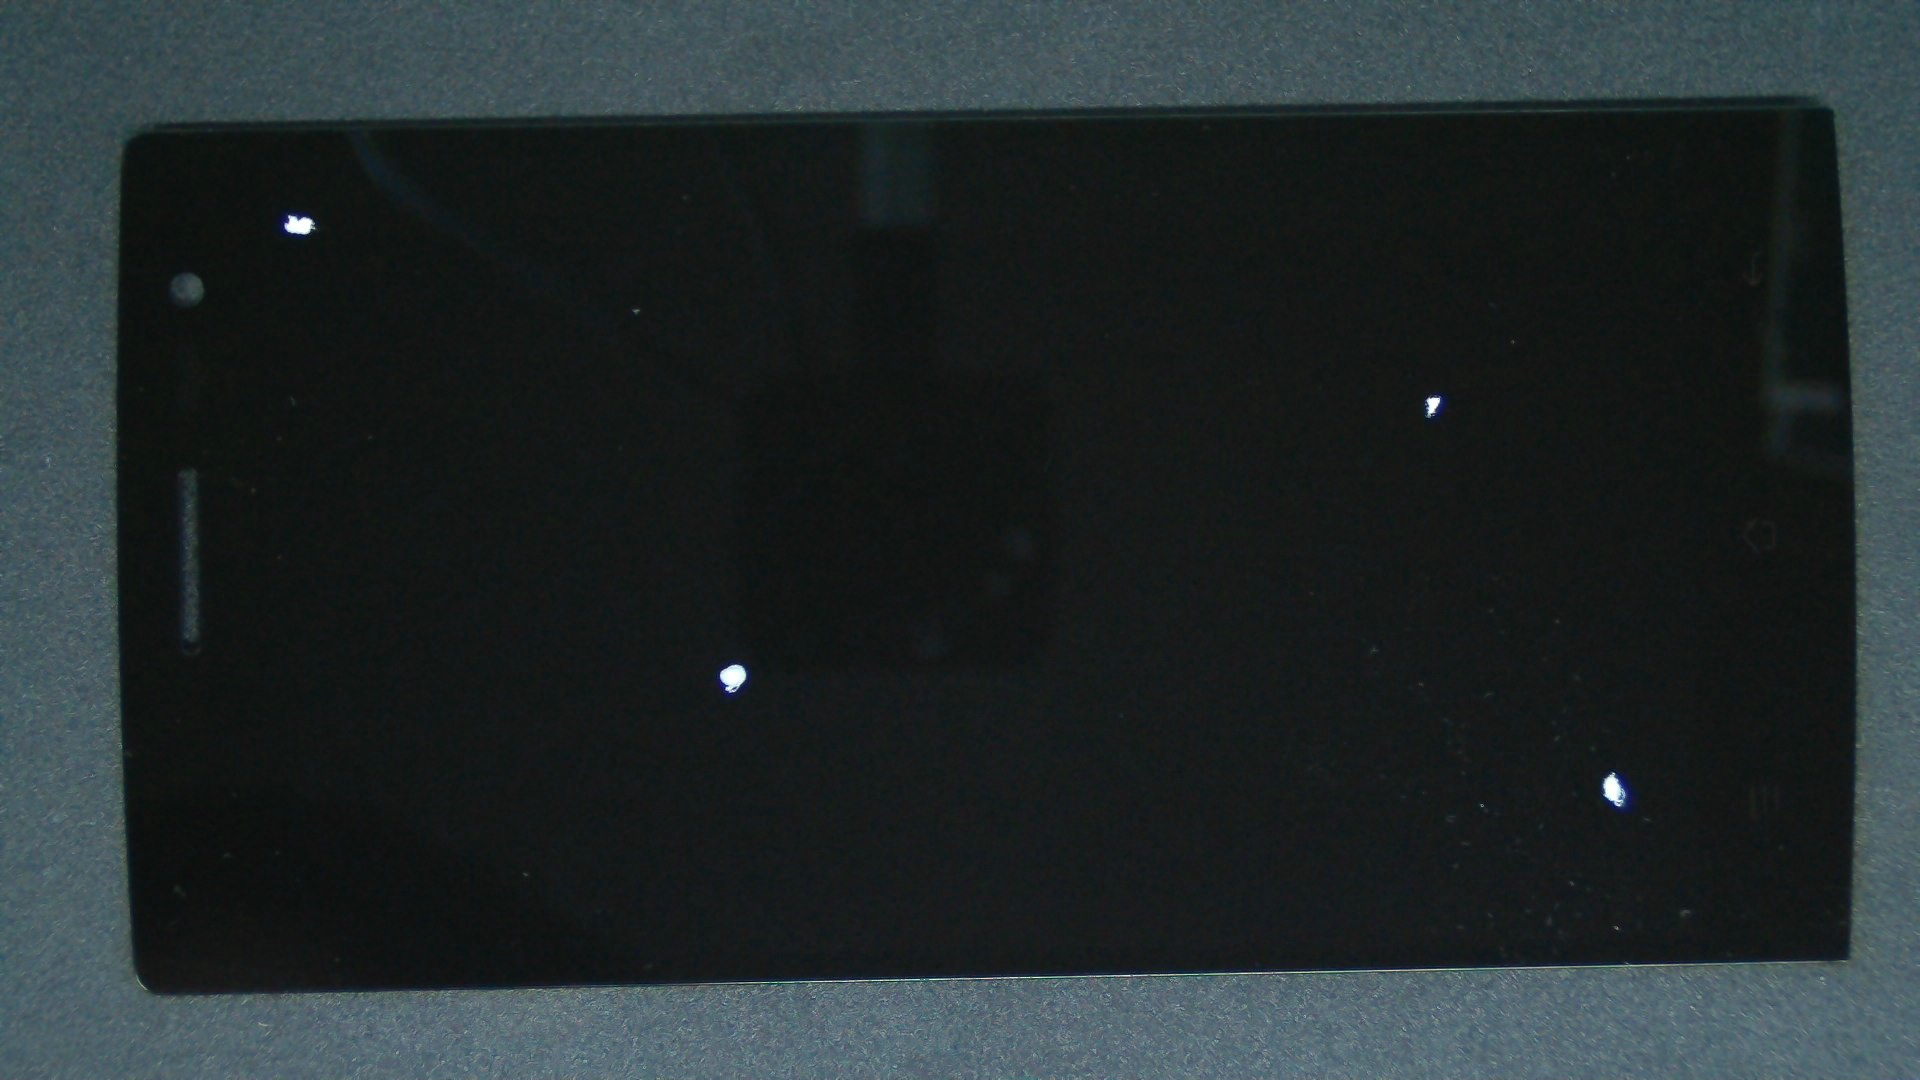oil: (807, 384, 1920, 1080), (367, 331, 1098, 996), (716, 196, 1920, 589), (144, 105, 430, 320)
